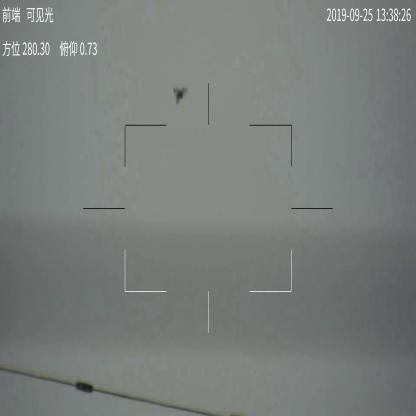uav: (172, 84, 188, 110)
